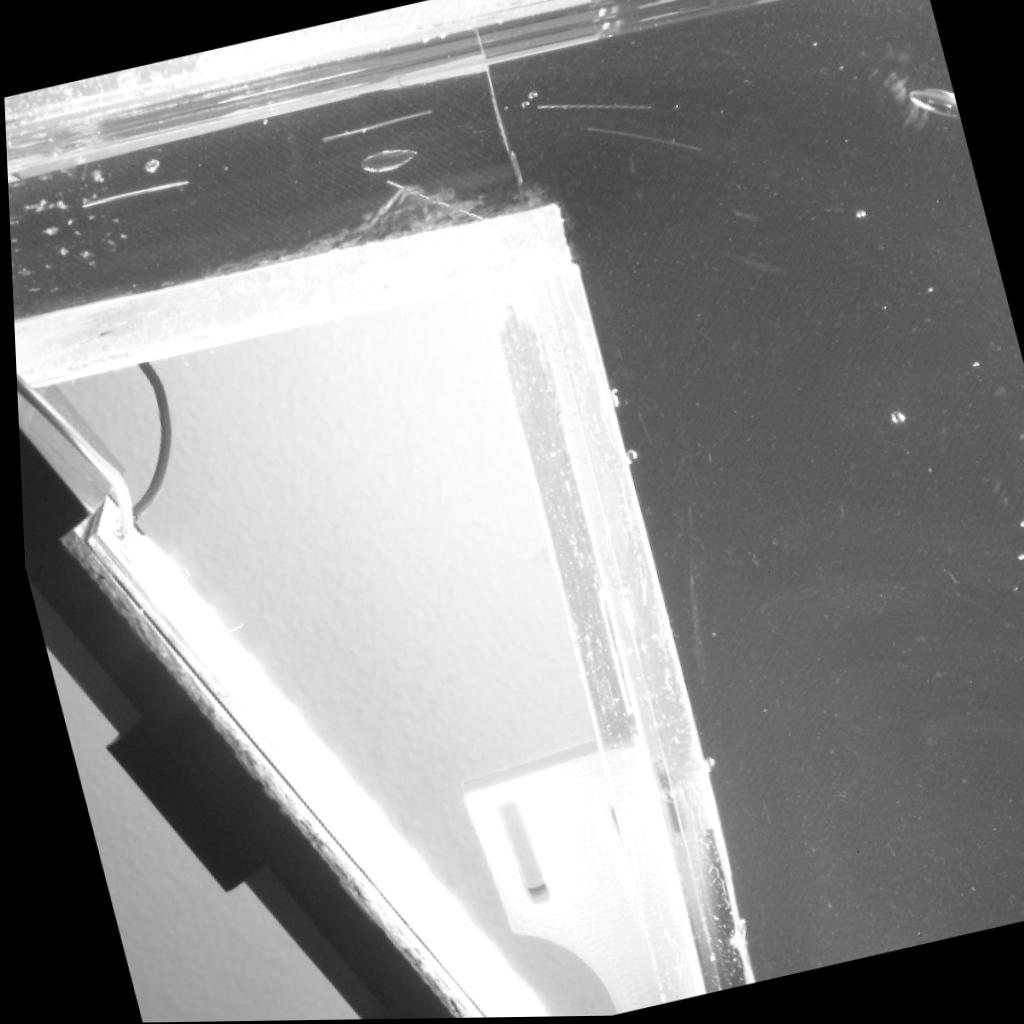Fiber: (379, 175, 499, 227), (75, 173, 189, 214), (318, 105, 431, 145), (582, 125, 704, 158), (536, 103, 658, 119)
